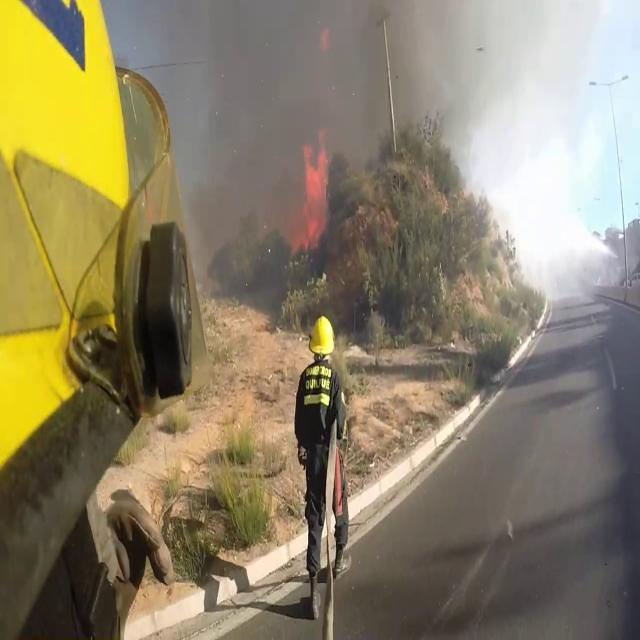Fire: (298, 122, 332, 252)
Smoke: (164, 0, 506, 263)
